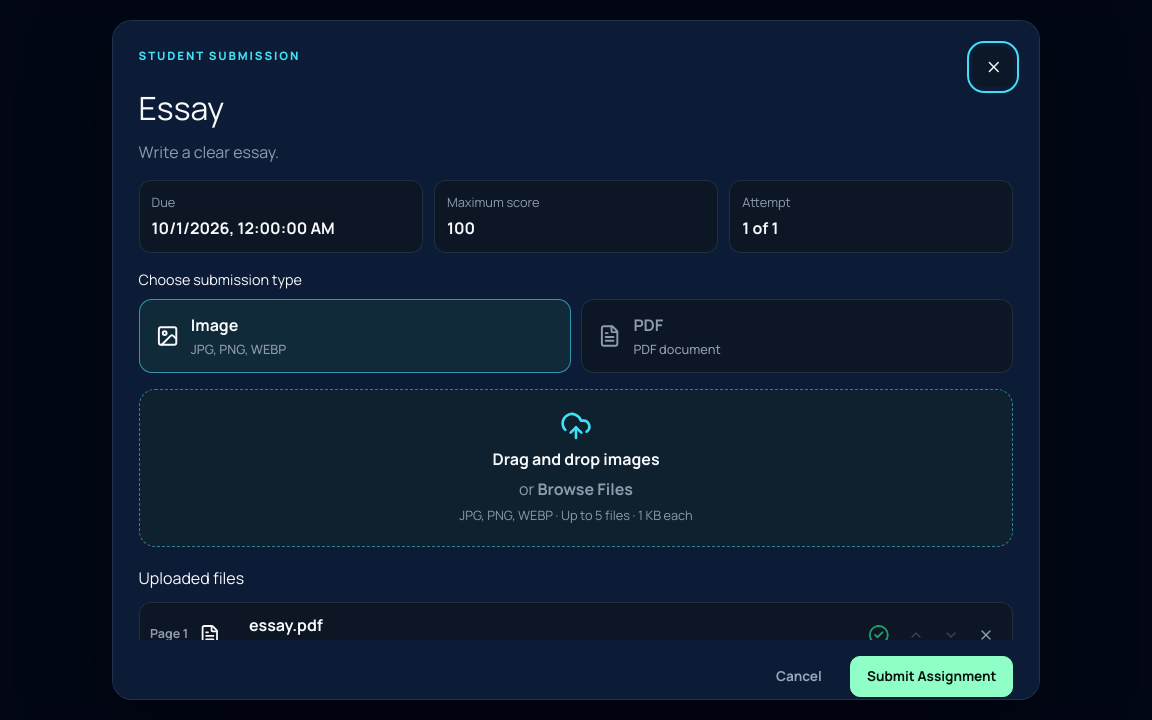
Test: StudentSubmissionDialog › does not redirect when final submission fails
Expected: the heading "Essay" is shown, top-left (139, 86), bottom-right (224, 130)
Click the button "Submit Assignment" at (932, 677), box top-left (850, 656), bottom-right (1014, 697)
(page scrolled)
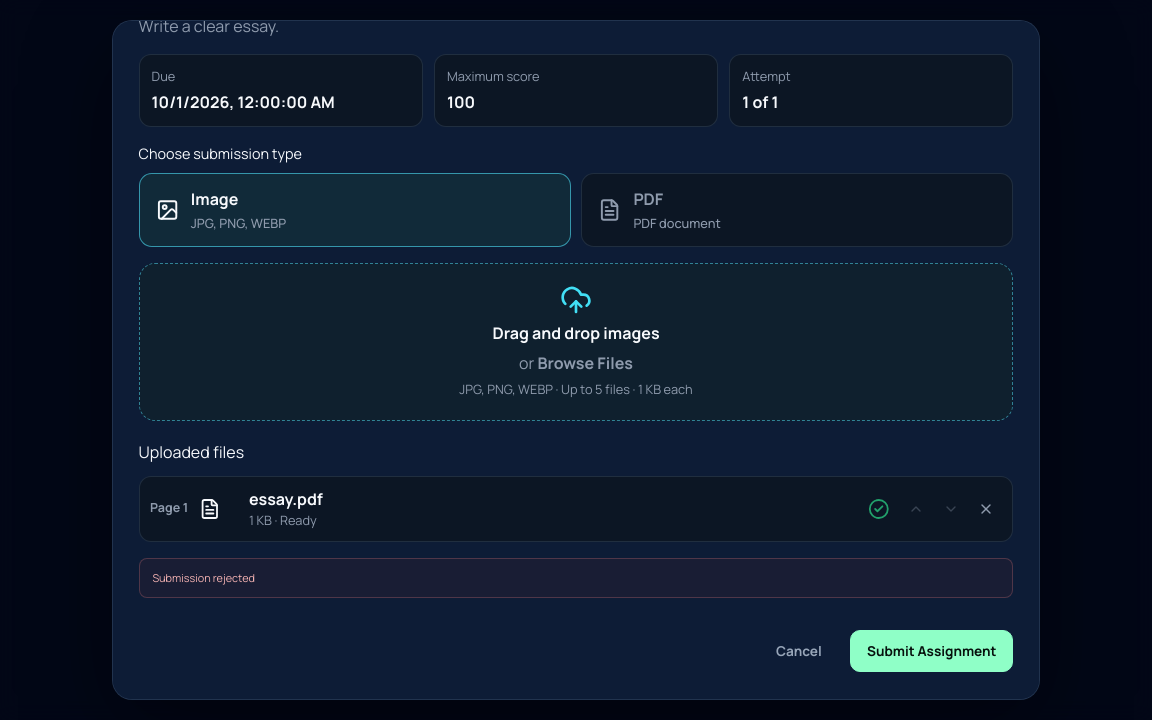
Expected: the message reads "Submission rejected", top-left (152, 570), bottom-right (255, 585)
